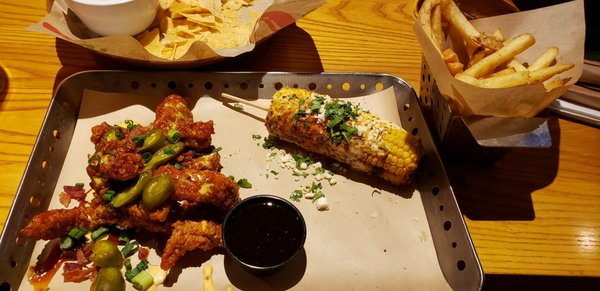sushi: (221, 195, 307, 276)
